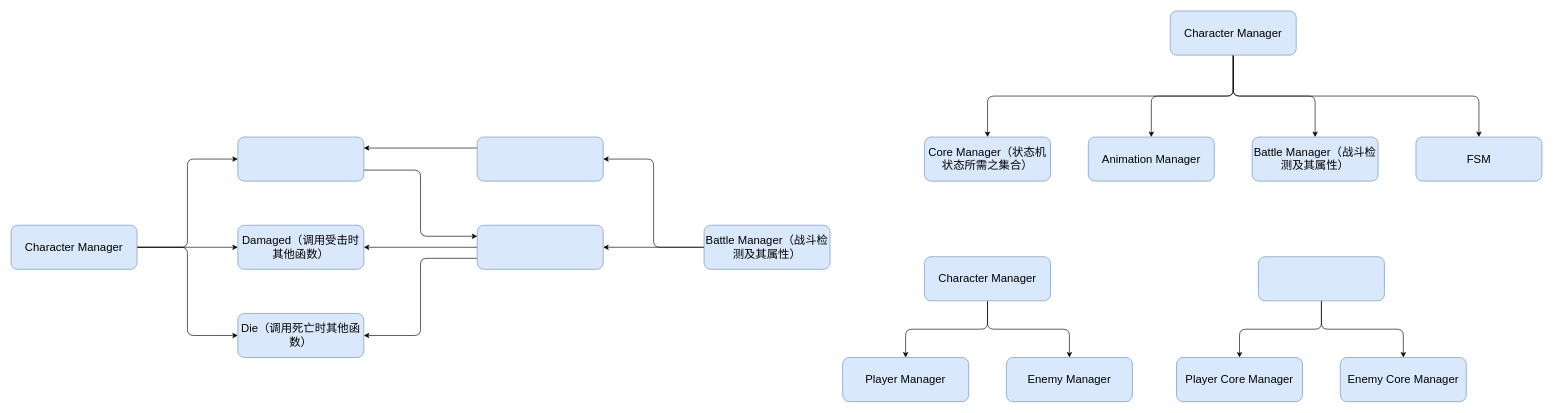
The diagram is 1553 pixels wide and 413 high, and some of its shapes have lost their labels. Here are the shapes that lost their labels. From the top down, the box of each, then its label:
(237, 136, 364, 181): Try to Damage（判断能否造成伤害）
(477, 136, 603, 181): On Trigger Enter
(477, 225, 603, 269): Damage（进行数值计算判断，看看是受伤还是死亡）
(1258, 256, 1384, 301): Core Manager
